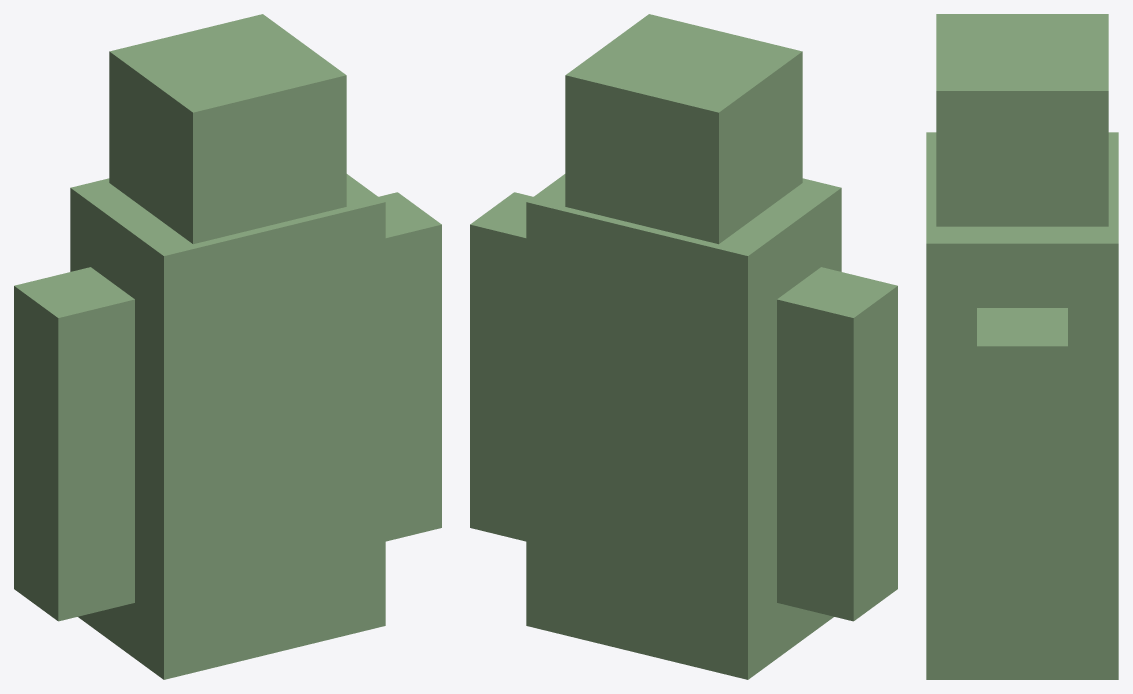
The model's file is Orc.glb.
3 renders of one model, left to right at view 1: azimuth 30°, elevation 25°; view 2: azimuth 150°, elevation 25°; view 3: azimuth 270°, elevation 25°, orthographic. The views are drawn at different scales.
Visible parts, largest first — view 1: filler_Orc; view 2: filler_Orc; view 3: filler_Orc.
Part boxes in pixels (<box>): filler_Orc: <box>14,14,441,679</box>; filler_Orc: <box>470,14,897,679</box>; filler_Orc: <box>926,14,1118,679</box>.
Bounding box in the file's own units: 0.9 × 1.24 × 0.38.
